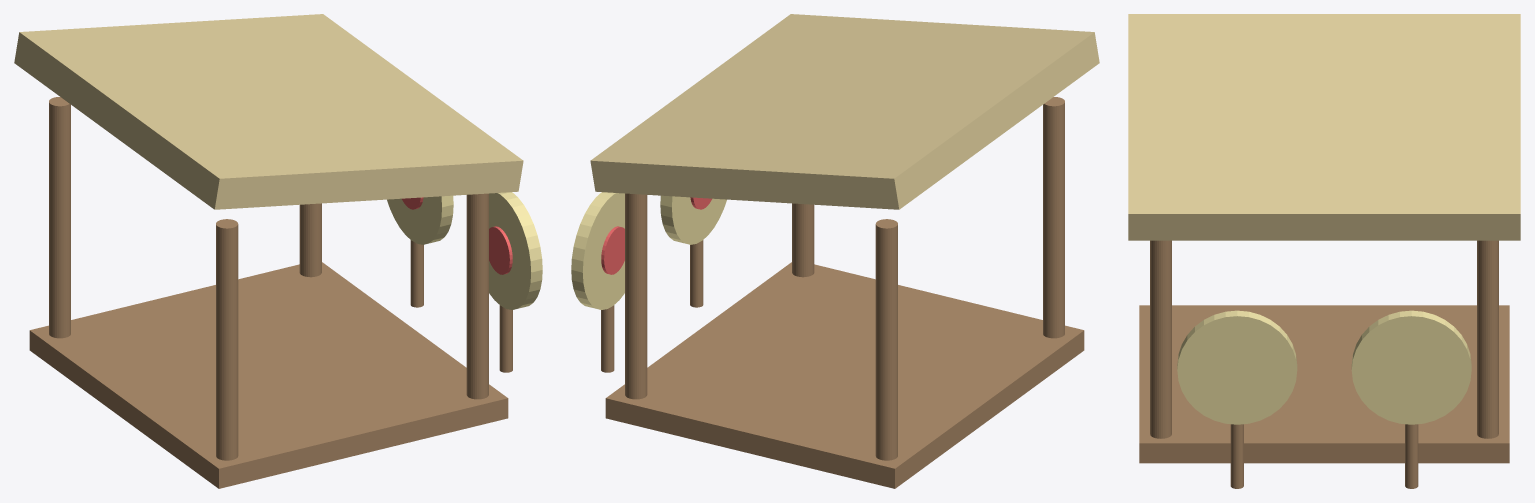
File: archery_range.glb
3 renders of one model, left to right at view 1: azimuth 30°, elevation 25°; view 2: azimuth 150°, elevation 25°; view 3: azimuth 270°, elevation 25°, orthographic. The views are drawn at different scales.
Visible parts, largest first — view 1: Cube.001, Cube, Cylinder, Cylinder.001, Cylinder.002, Cylinder.005, Cylinder.008, Cylinder.003, Cylinder.006, Cylinder.007, Cylinder.004; view 2: Cube.001, Cube, Cylinder.001, Cylinder, Cylinder.003, Cylinder.008, Cylinder.005, Cylinder.002, Cylinder.009, Cylinder.004, Cylinder.007; view 3: Cube.001, Cube, Cylinder.005, Cylinder.008, Cylinder.002, Cylinder.003, Cylinder.004, Cylinder.007.
Part boxes in pixels (<box>): Cube.001: <box>14,14,523,209</box>; Cube: <box>29,262,508,488</box>; Cylinder: <box>216,219,238,460</box>; Cylinder.001: <box>49,97,70,338</box>; Cylinder.002: <box>466,193,488,399</box>; Cylinder.005: <box>489,192,542,309</box>; Cylinder.008: <box>387,195,453,244</box>; Cylinder.003: <box>299,203,321,277</box>; Cylinder.006: <box>489,226,512,274</box>; Cylinder.007: <box>410,240,423,307</box>; Cylinder.004: <box>499,305,512,372</box>; Cube.001: <box>590,14,1099,209</box>; Cube: <box>605,262,1084,488</box>; Cylinder.001: <box>875,219,897,460</box>; Cylinder: <box>1043,97,1064,338</box>; Cylinder.003: <box>625,193,647,399</box>; Cylinder.008: <box>571,192,624,309</box>; Cylinder.005: <box>660,195,726,244</box>; Cylinder.002: <box>792,203,814,277</box>; Cylinder.009: <box>601,226,624,274</box>; Cylinder.004: <box>690,240,703,307</box>; Cylinder.007: <box>601,305,614,372</box>; Cube.001: <box>1128,14,1520,240</box>; Cube: <box>1139,305,1509,463</box>; Cylinder.005: <box>1177,310,1297,424</box>; Cylinder.008: <box>1351,310,1471,424</box>; Cylinder.002: <box>1150,240,1171,438</box>; Cylinder.003: <box>1477,240,1498,438</box>; Cylinder.004: <box>1230,424,1243,488</box>; Cylinder.007: <box>1405,424,1418,488</box>.
Bounding box in the file's own units: 3.66 × 3.13 × 3.6.
